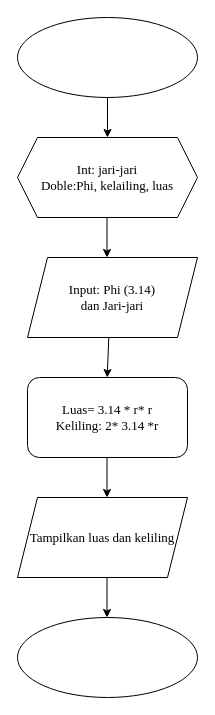
Some shapes in this 215 by 715 pixel diagram are drawn without their labels. Each missing label, with the centre of its shape:
Mulai: (x=107, y=57)
Selesai: (x=107, y=657)
